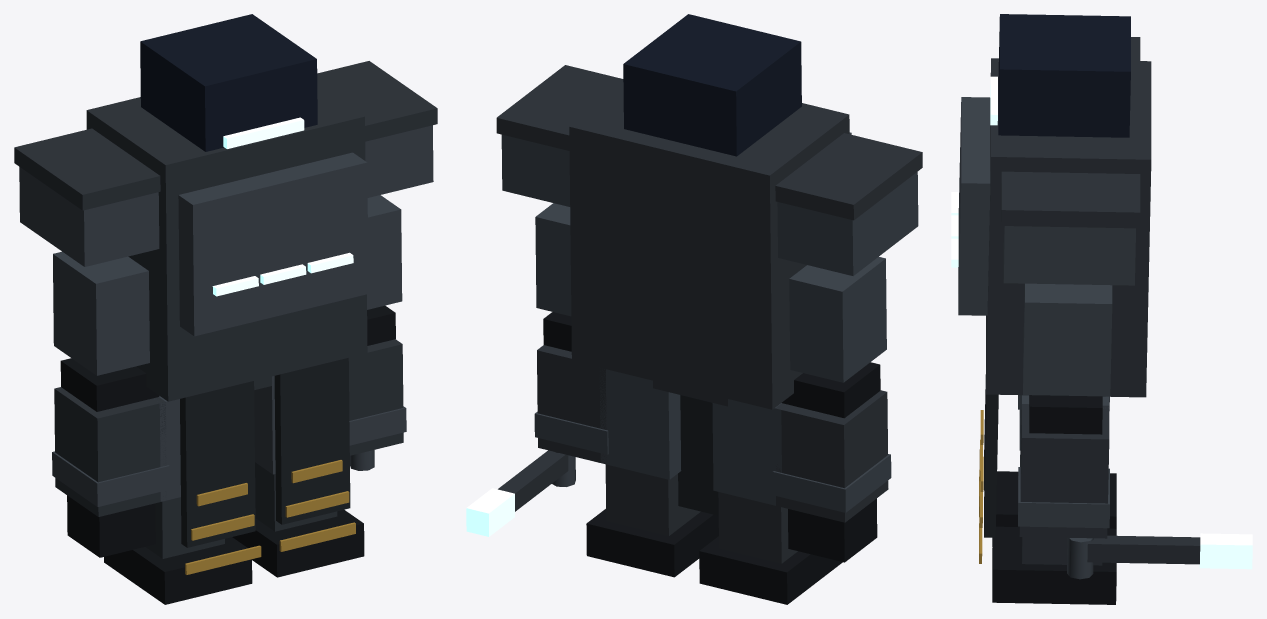
File: boss_sanitizer.glb
3 renders of one model, left to right at view 1: azimuth 30°, elevation 25°; view 2: azimuth 150°, elevation 25°; view 3: azimuth 270°, elevation 25°, orthographic.
Size of the model in its own units: 2.85 by 3.89 by 2.07.
